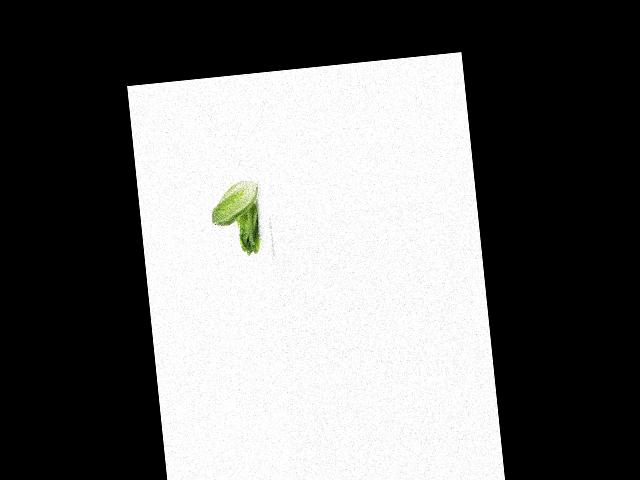lettuce: (230, 202, 268, 256)
